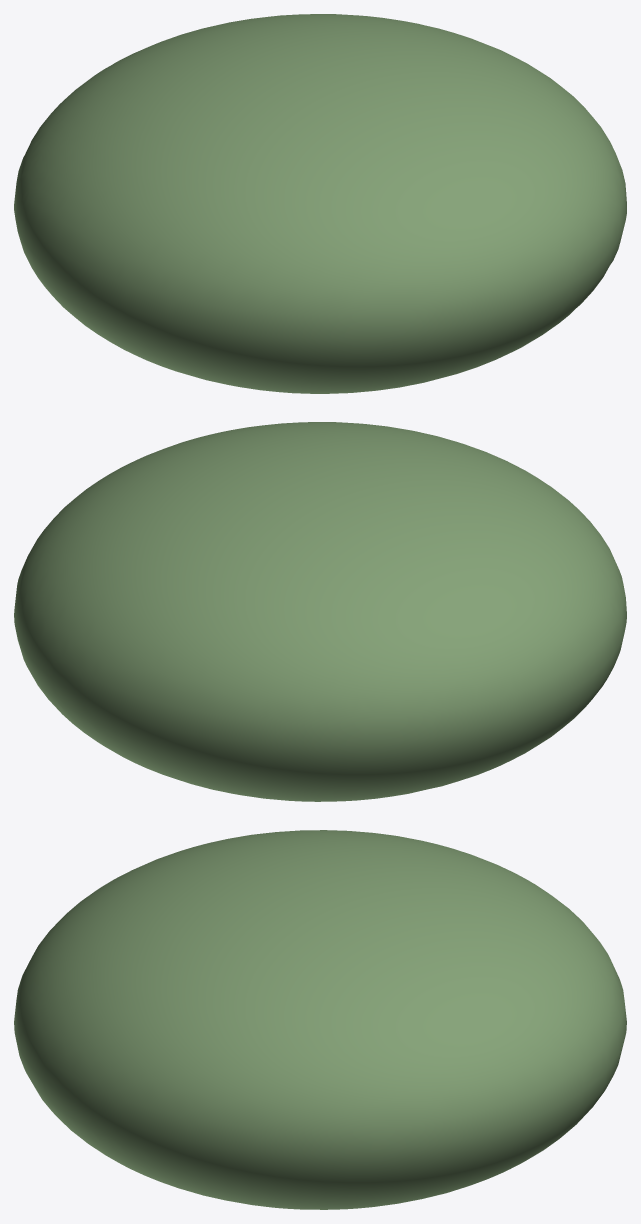
Rendered from hill.glb.
3 renders of one model, top to bottom at view 1: azimuth 30°, elevation 25°; view 2: azimuth 150°, elevation 25°; view 3: azimuth 270°, elevation 25°, orthographic.
Visible parts, largest first — view 1: hill; view 2: hill; view 3: hill.
Boxes of the visible parts, <box> form: hill: <box>14,14,626,393</box>; hill: <box>14,422,626,801</box>; hill: <box>14,830,626,1209</box>.
Size of the model in its own units: 180 by 89.98 by 180.
